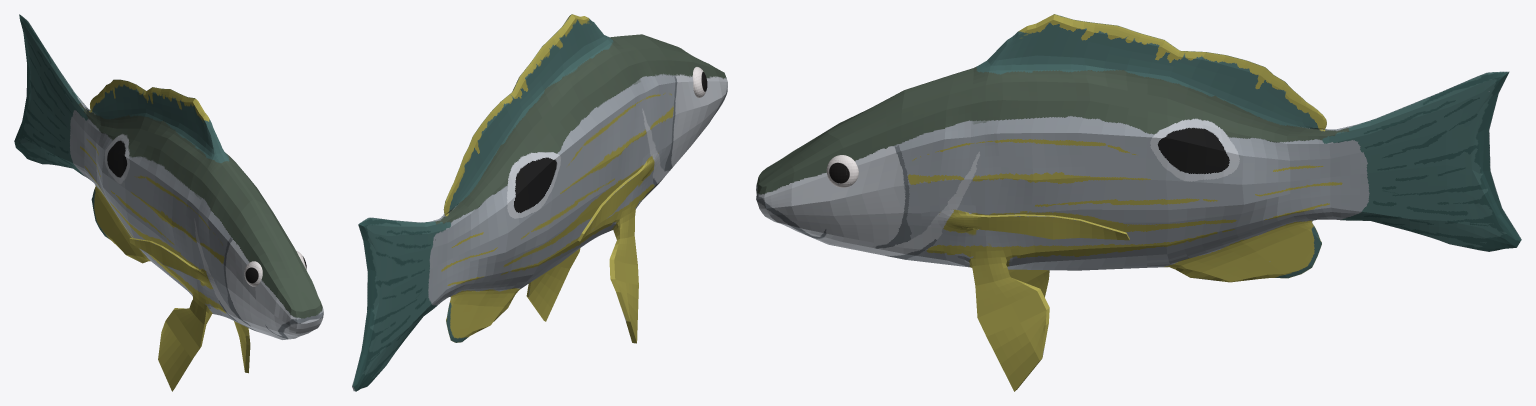
File: snapper.fbx
3 views of the same model, side by side, from view 1: azimuth 30°, elevation 25°; view 2: azimuth 150°, elevation 25°; view 3: azimuth 270°, elevation 25° (orthographic). The views are drawn at different scales.
Visible parts, largest first — view 1: Cube; view 2: Cube; view 3: Cube.
Boxes of the visible parts, left/top/right/bottom form: Cube: left=14, top=14, right=323, bottom=391; Cube: left=352, top=14, right=727, bottom=391; Cube: left=756, top=14, right=1521, bottom=391.
Size of the model in its own units: 0.3345 by 1.02 by 2.
2 materials, 2 textured.
